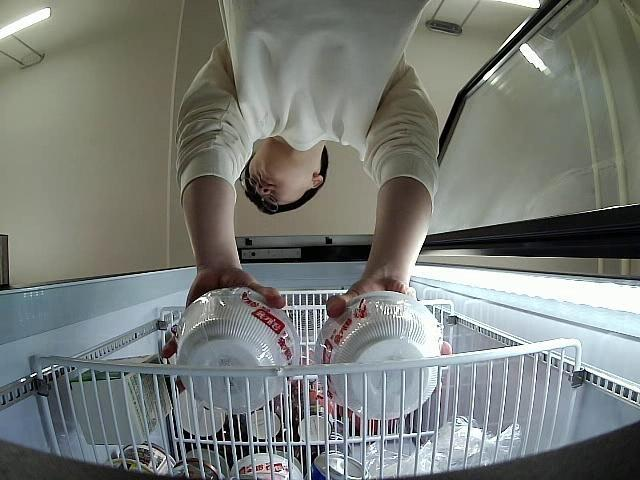09_yukGaeJang: (313, 292, 442, 422), (176, 288, 300, 414)
